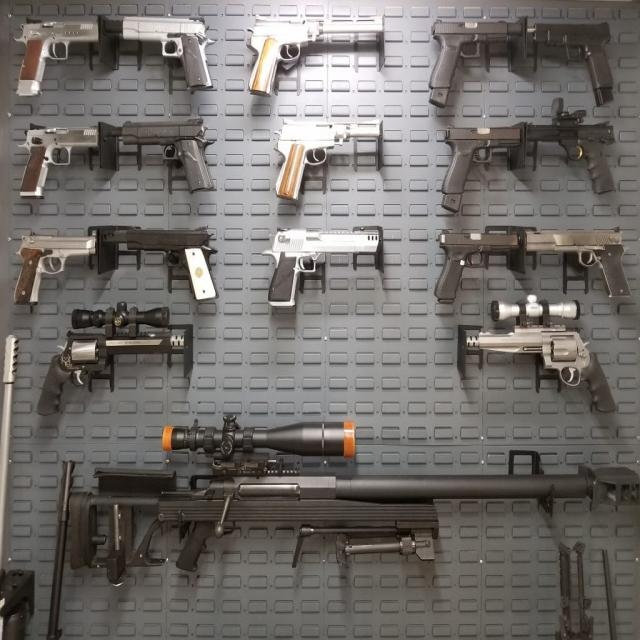HandGun: (38, 302, 192, 417), (479, 298, 616, 413), (247, 16, 381, 97), (261, 230, 379, 302), (275, 119, 379, 200), (102, 229, 218, 301), (429, 19, 521, 108), (114, 14, 214, 93), (526, 228, 632, 300), (441, 126, 521, 213), (14, 18, 99, 98), (527, 118, 616, 194), (535, 22, 613, 107), (434, 233, 518, 304), (14, 235, 96, 304), (18, 128, 98, 197)
Rifle: (66, 418, 640, 585)
